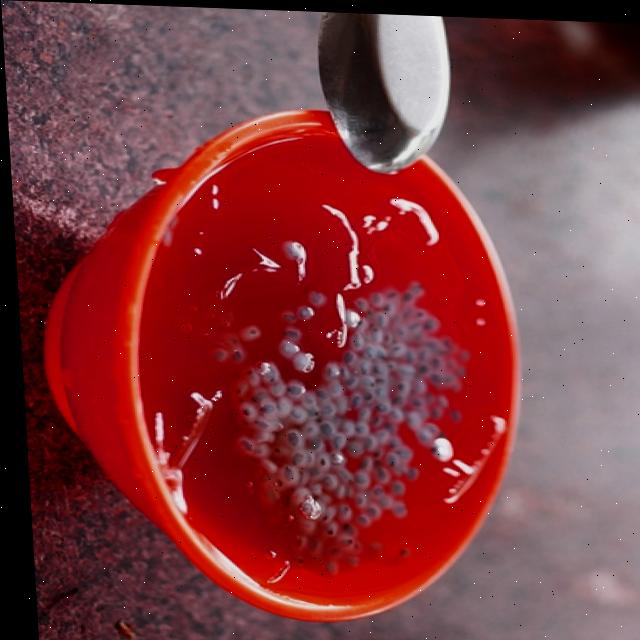蛋糕甜品: (166, 179, 481, 543)
